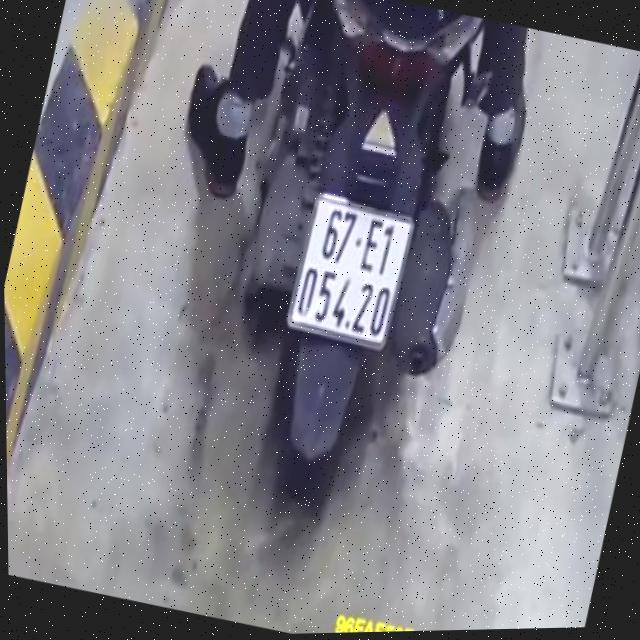motorcycle: (184, 0, 533, 518)
plate: (276, 182, 426, 360)
